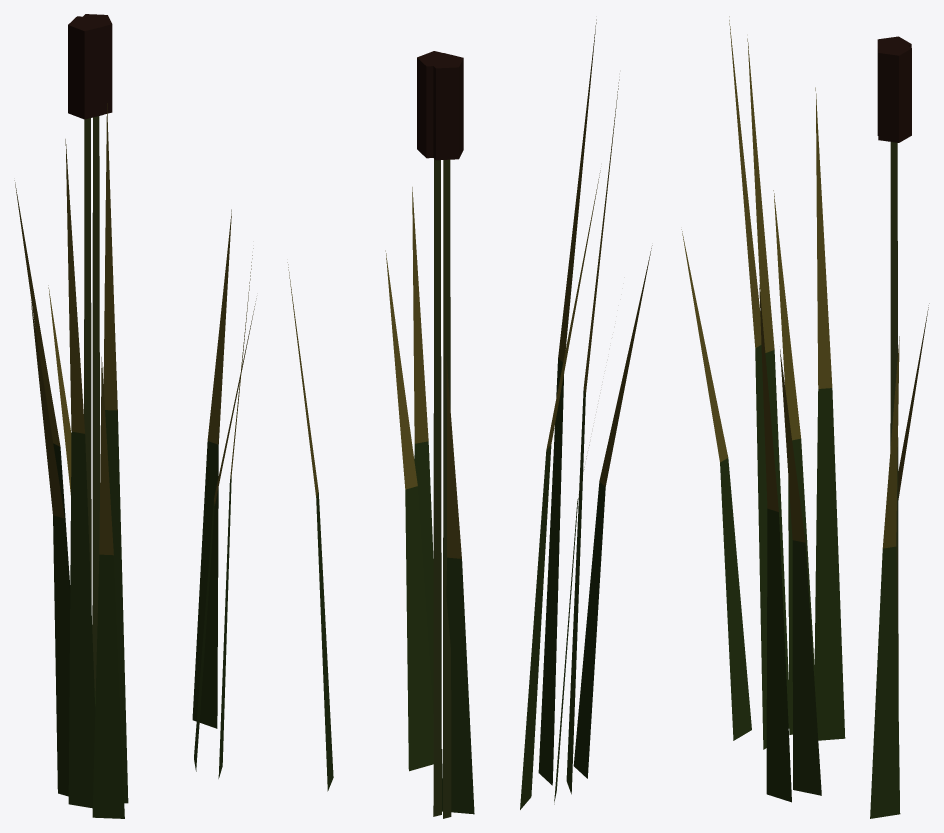
File: reeds.fbx
3 views of the same model, side by side, from view 1: azimuth 30°, elevation 25°; view 2: azimuth 150°, elevation 25°; view 3: azimuth 270°, elevation 25° (orthographic). The views are drawn at different scales.
Parts seen in each view (by area): view 1: reeds; view 2: reeds; view 3: reeds.
Boxes of the visible parts, <box> form: reeds: <box>14,14,256,818</box>; reeds: <box>287,19,652,818</box>; reeds: <box>681,16,929,818</box>.
Bounding box in the file's own units: 0.5656 × 1.48 × 0.4644.
